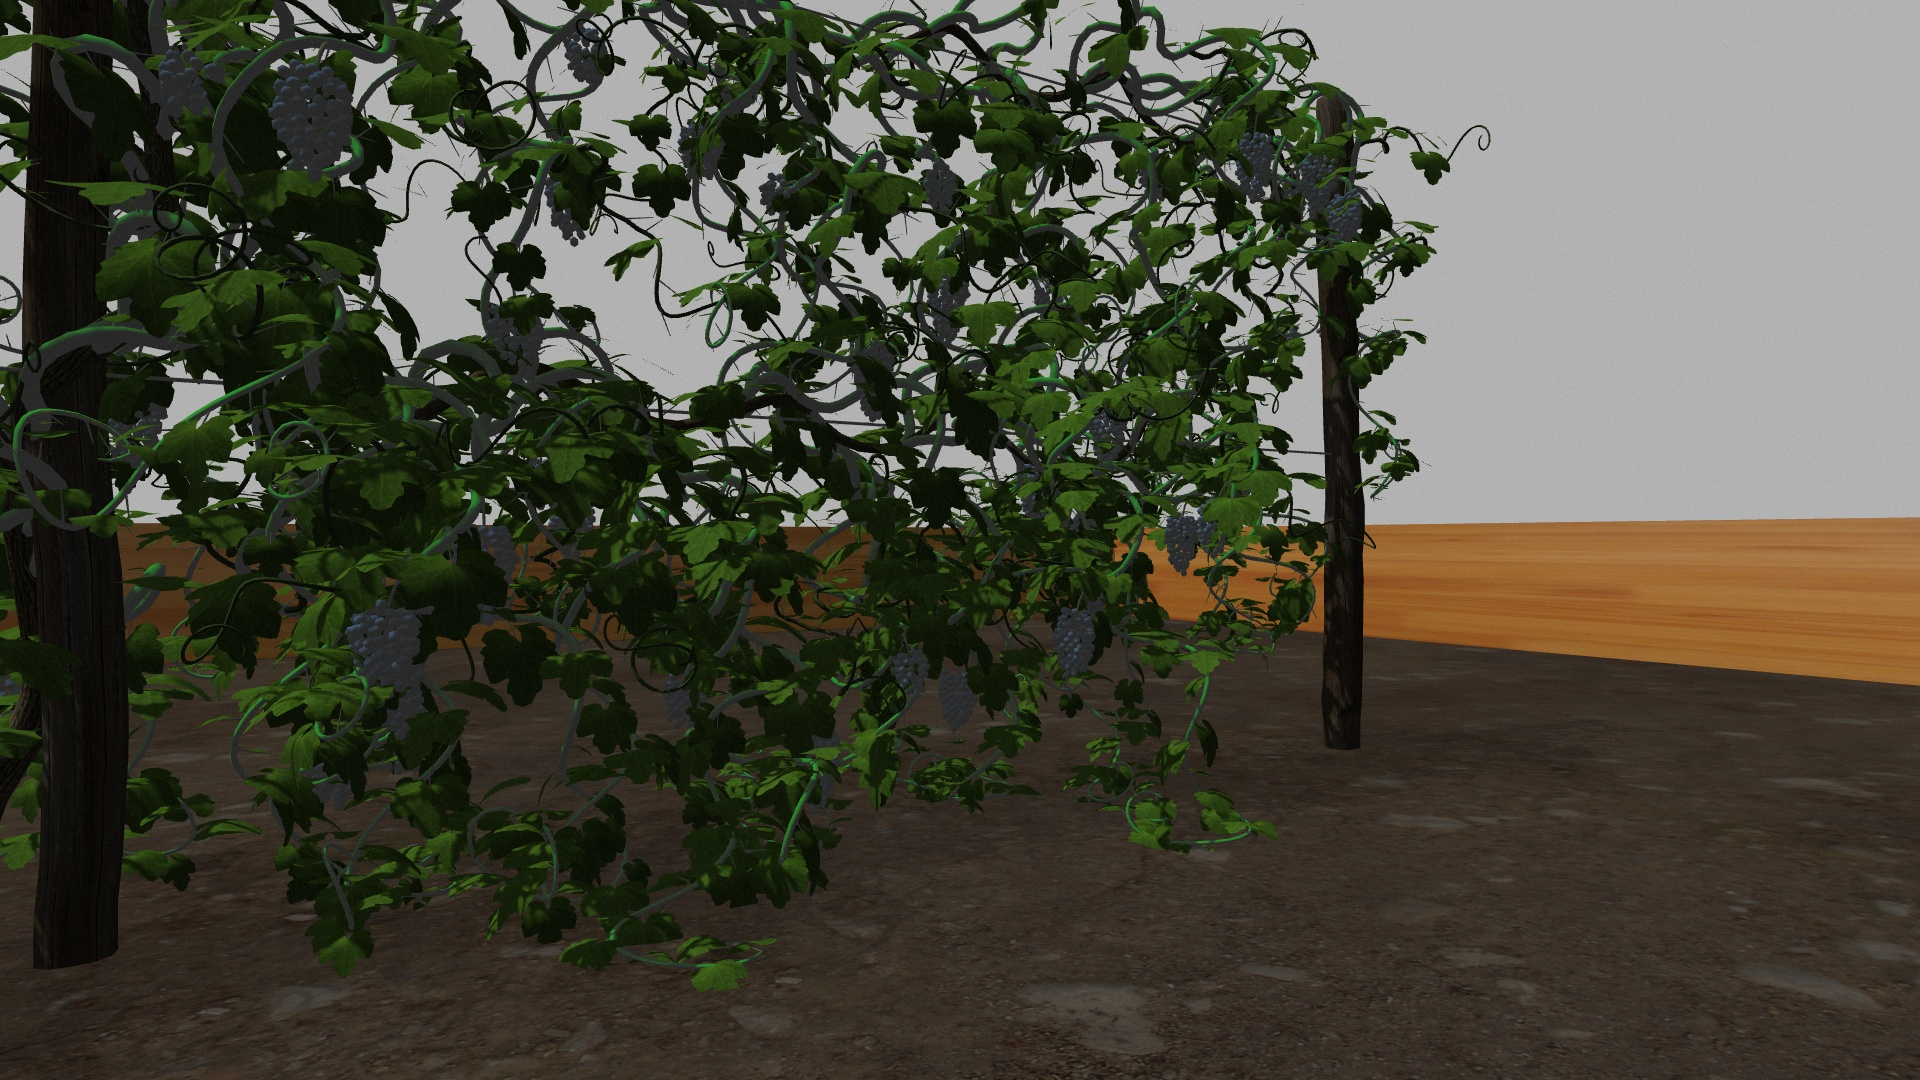grape: (273, 58, 353, 181), (152, 45, 233, 128), (349, 603, 422, 694), (491, 305, 545, 378), (1236, 131, 1276, 203), (1055, 608, 1096, 680), (563, 25, 613, 83), (926, 281, 969, 344), (476, 526, 520, 588), (939, 669, 976, 732), (924, 160, 960, 218), (1302, 154, 1337, 212), (1091, 409, 1127, 463), (1166, 514, 1197, 575), (306, 765, 351, 807), (388, 695, 427, 742), (893, 647, 930, 695), (758, 171, 796, 216), (662, 676, 694, 731), (1327, 195, 1364, 241), (1197, 520, 1226, 556)
